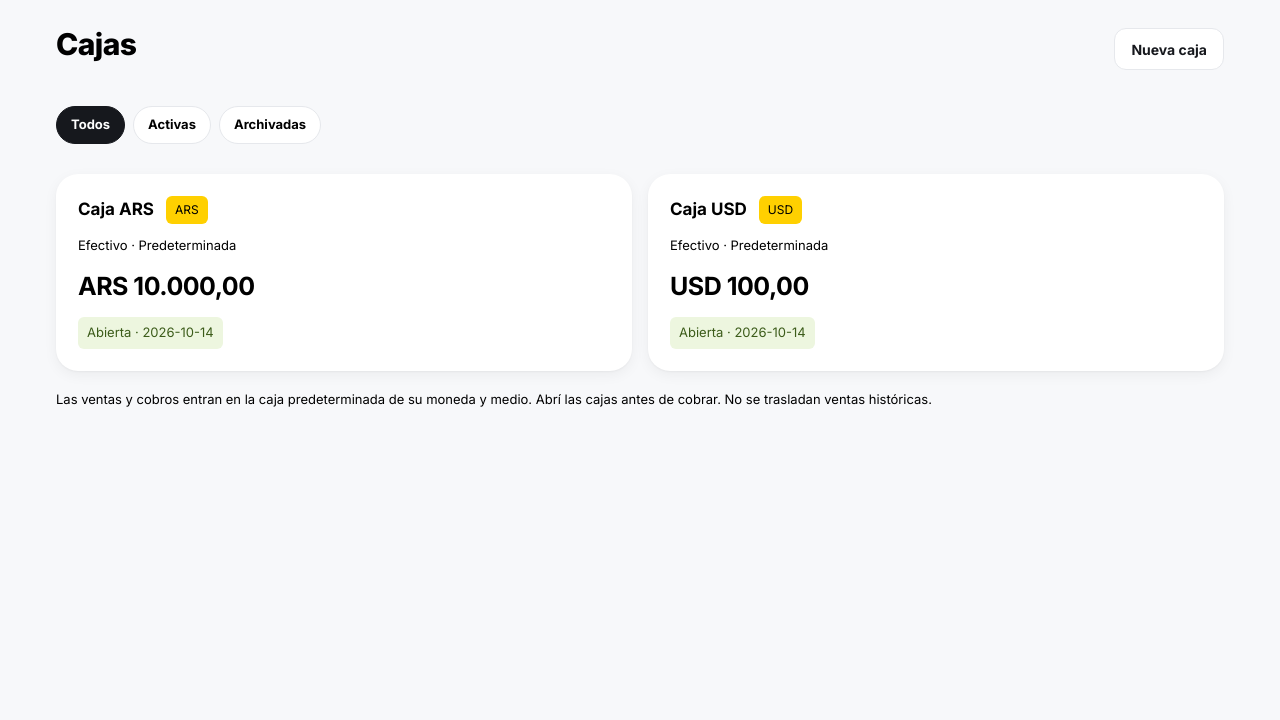
it: pantalla de caja › conserva formulario y valores cuando falla la persistencia
The image size is (1280, 720).
Click the button "Caja ARS".
click(116, 209)  # box [56,174,632,370]
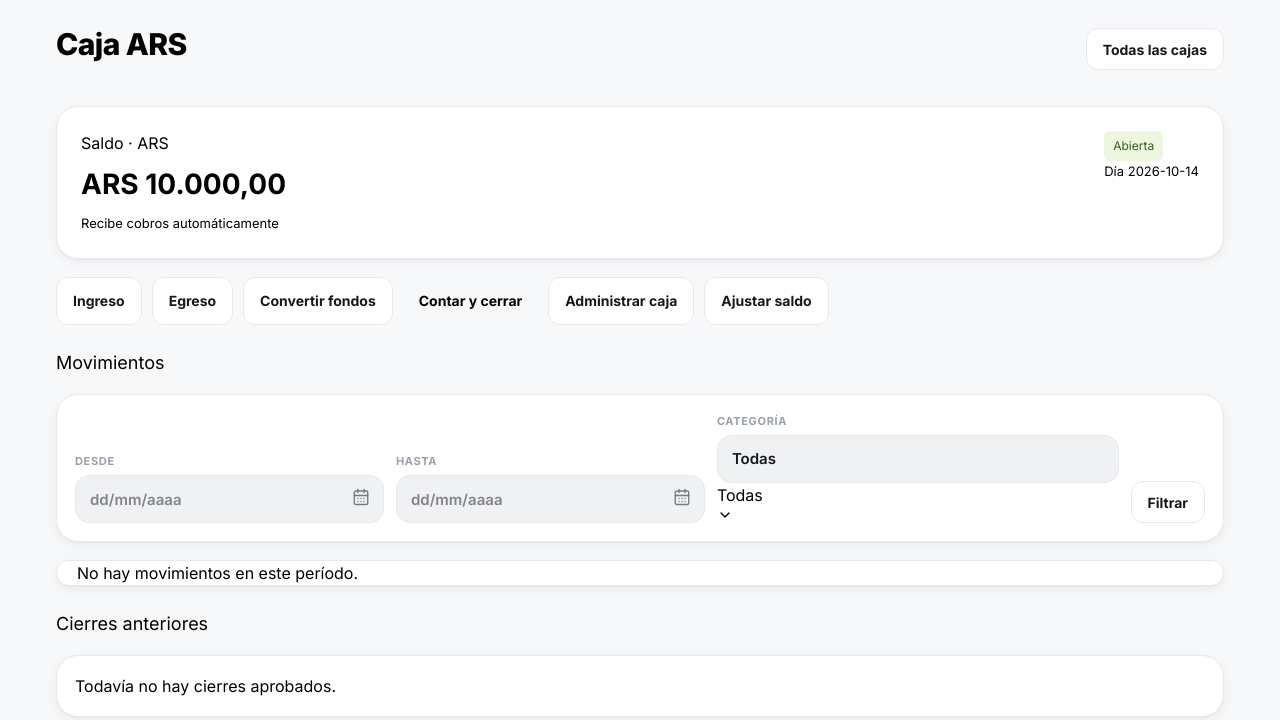
Click the button "Ingreso".
click(99, 301)  # box [56,277,142,325]
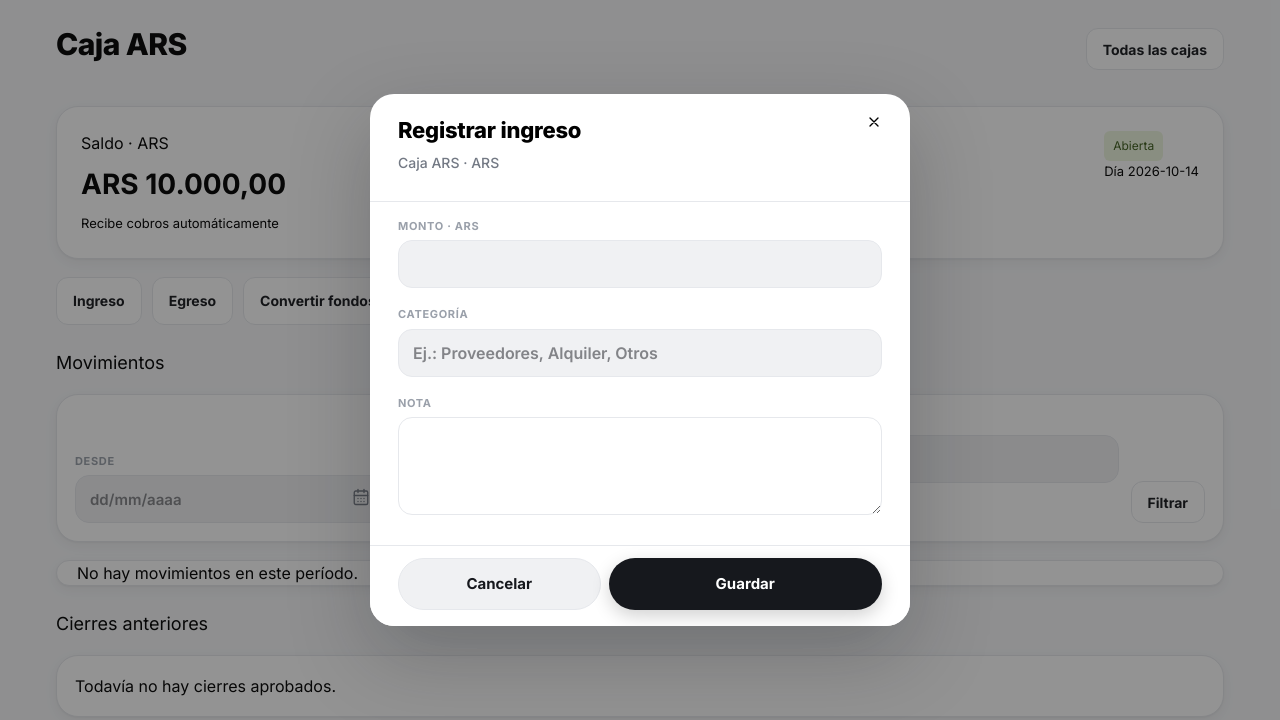
Type "1000" into the number field labelled "Monto · ARS".
click(640, 264); type("1000")  # box [398,240,882,288]
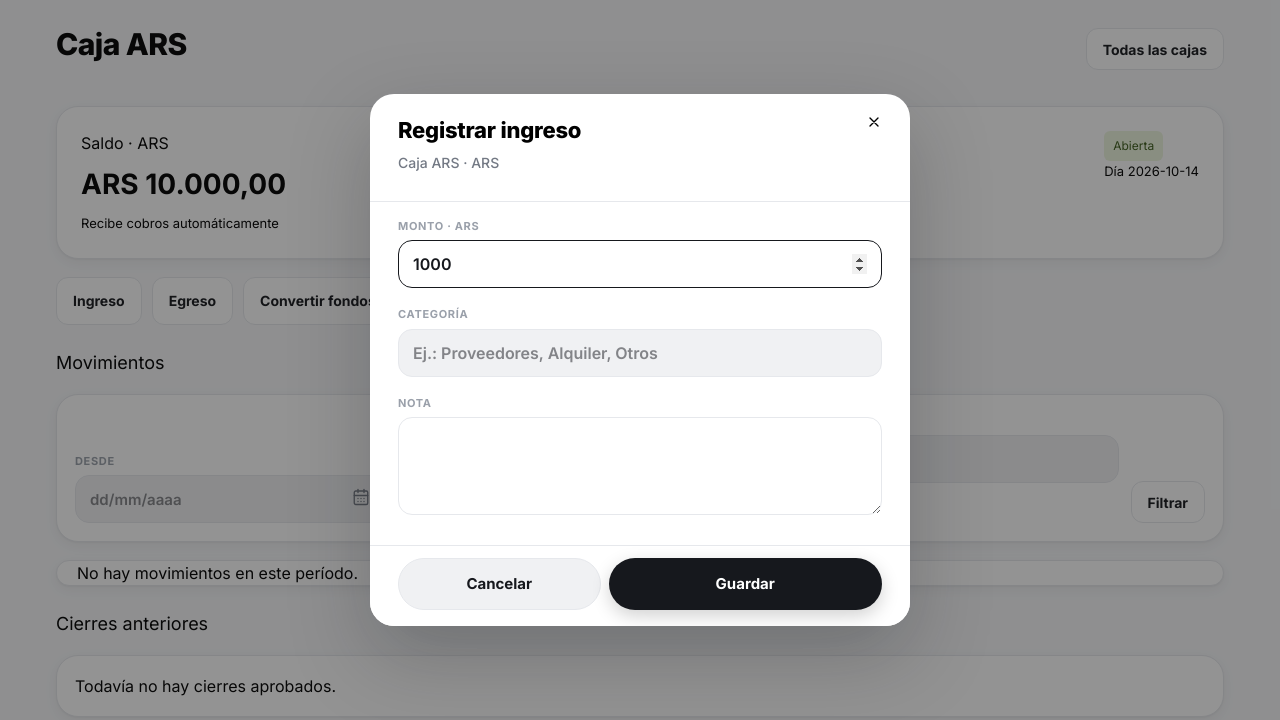
Click the button "Guardar".
click(745, 584)  # box [608,558,882,610]
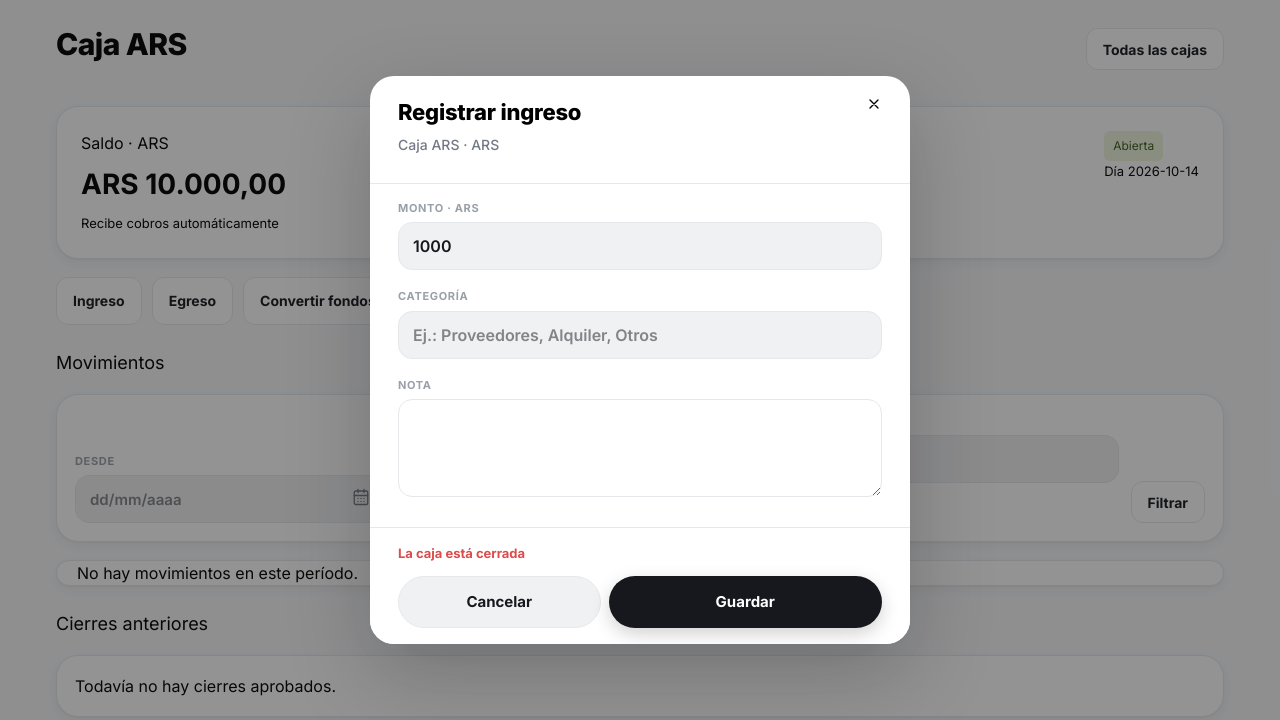
expect the dialog is shown: met, box [370,76,910,644]
expect the message reads "La caja está cerrada": met, box [398,545,525,561]
